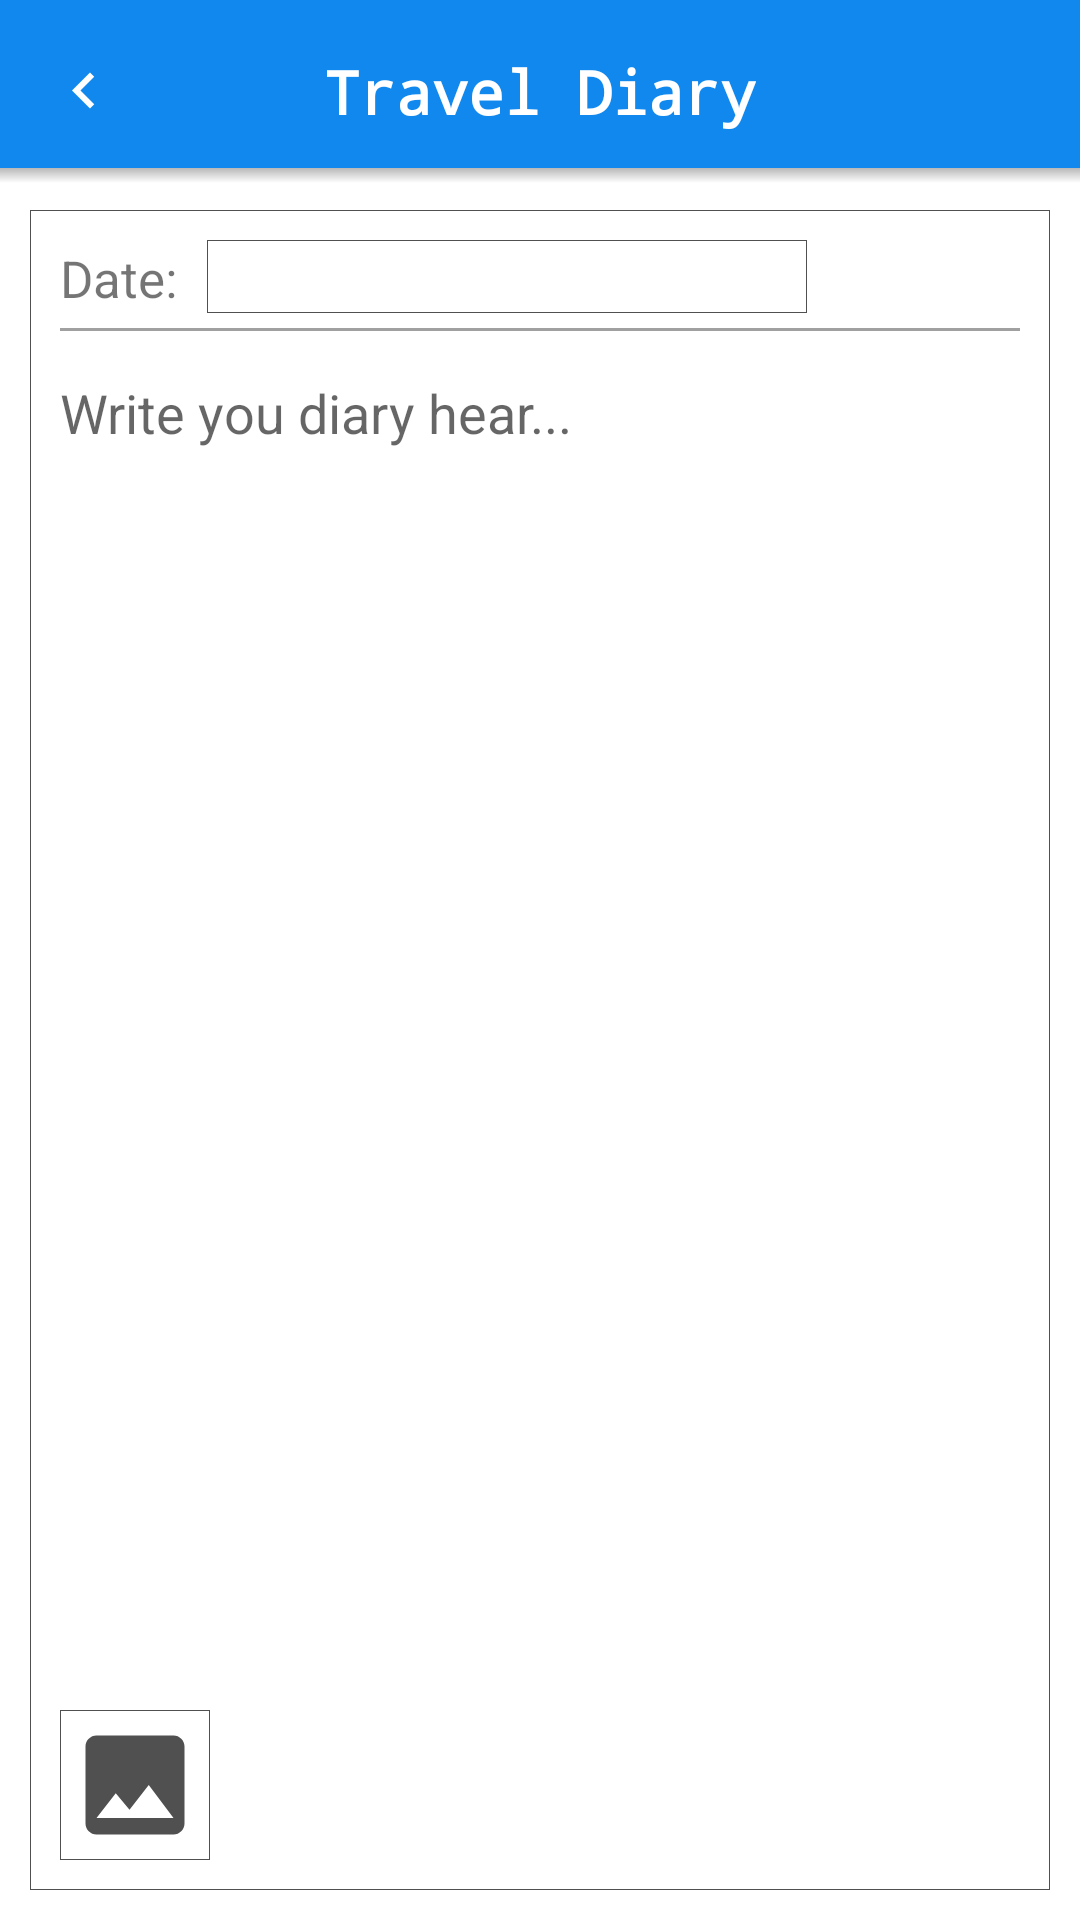

Icons on this 1080*1920 Android screen, each with its box as (x1, y1, x2, y2):
add photo: (60, 1710, 210, 1860)
